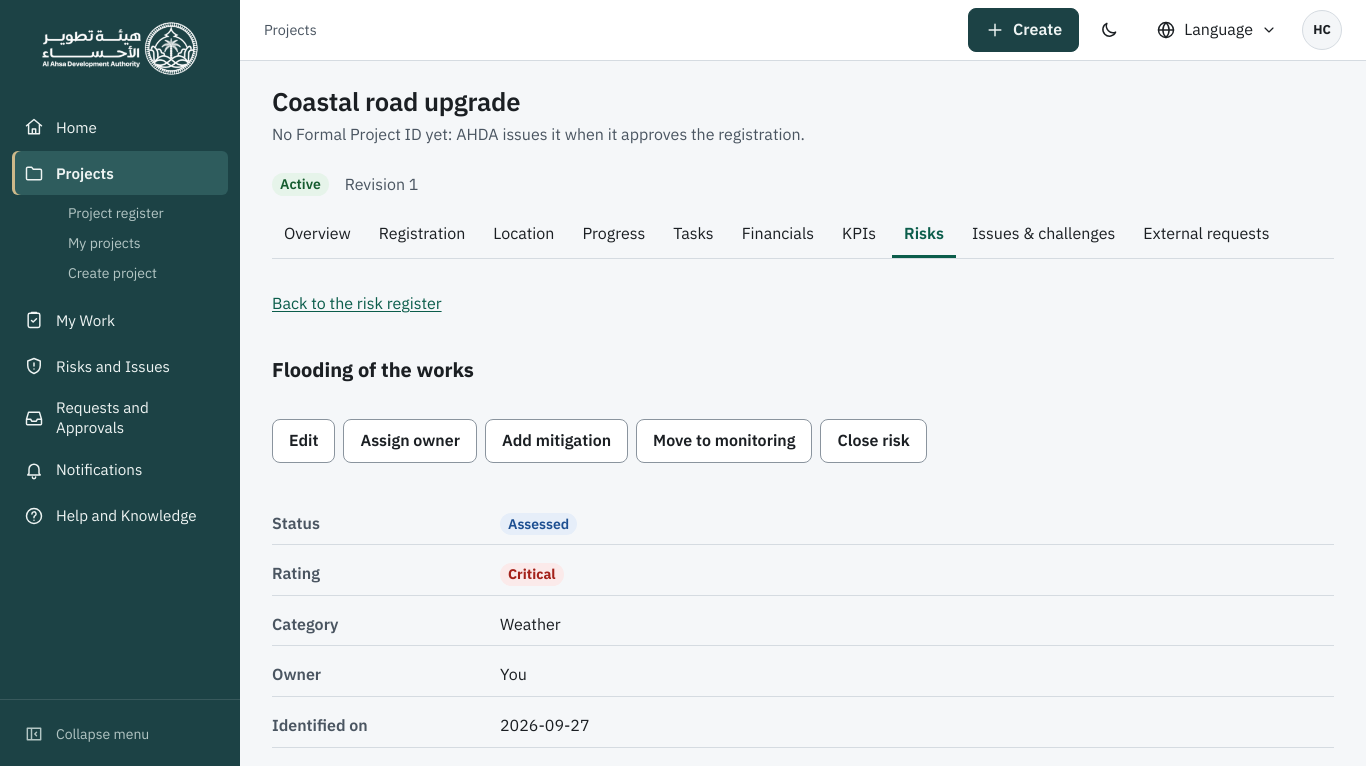
Scenario: MOD-030 to MOD-034 › MOD-031 re-sends the register fields with the ETag
This screenshot has width=1366, height=766.
Step 1. Click the button "Edit" → (304, 441), box x1=272 y1=419 x2=335 y2=463
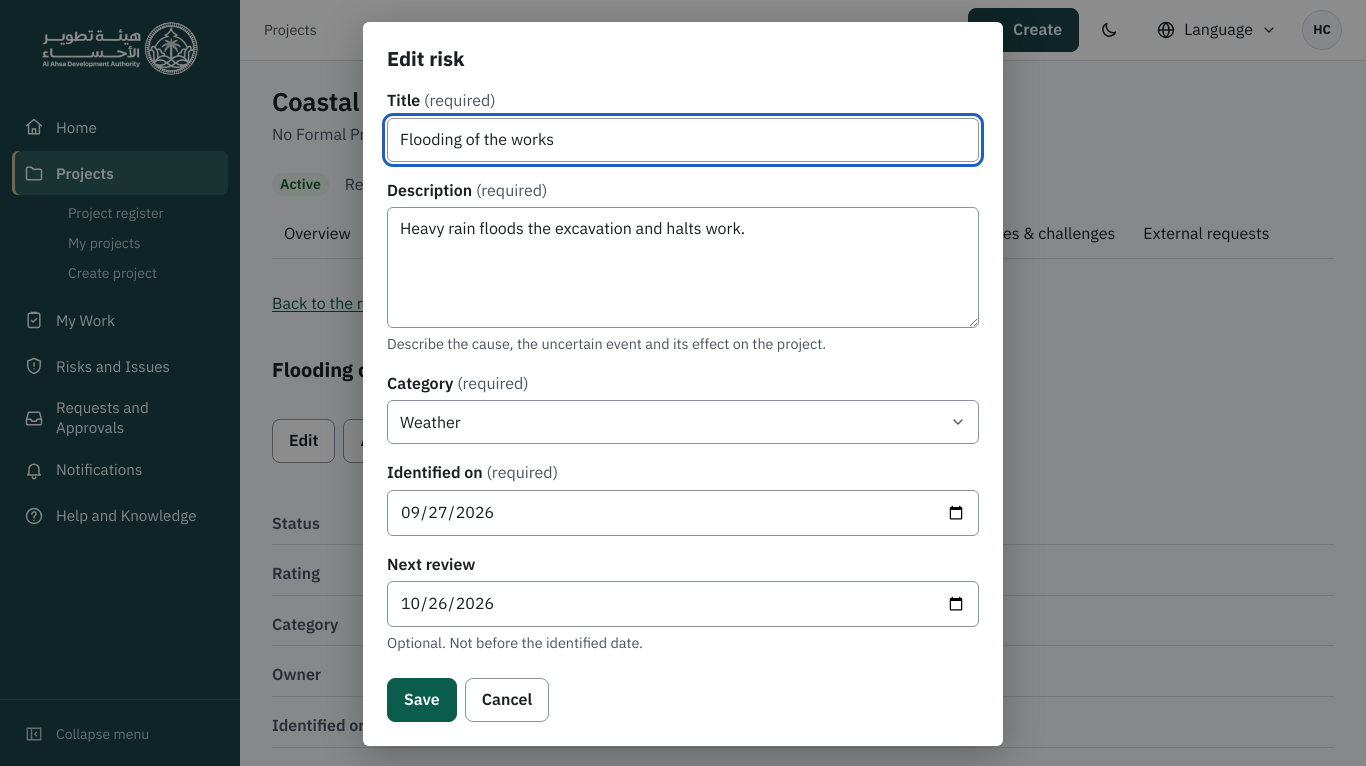
Step 2. Replace the text in the field labelled "Title (required)" with "Flooding of the excavation" → (683, 140), box x1=387 y1=118 x2=979 y2=162
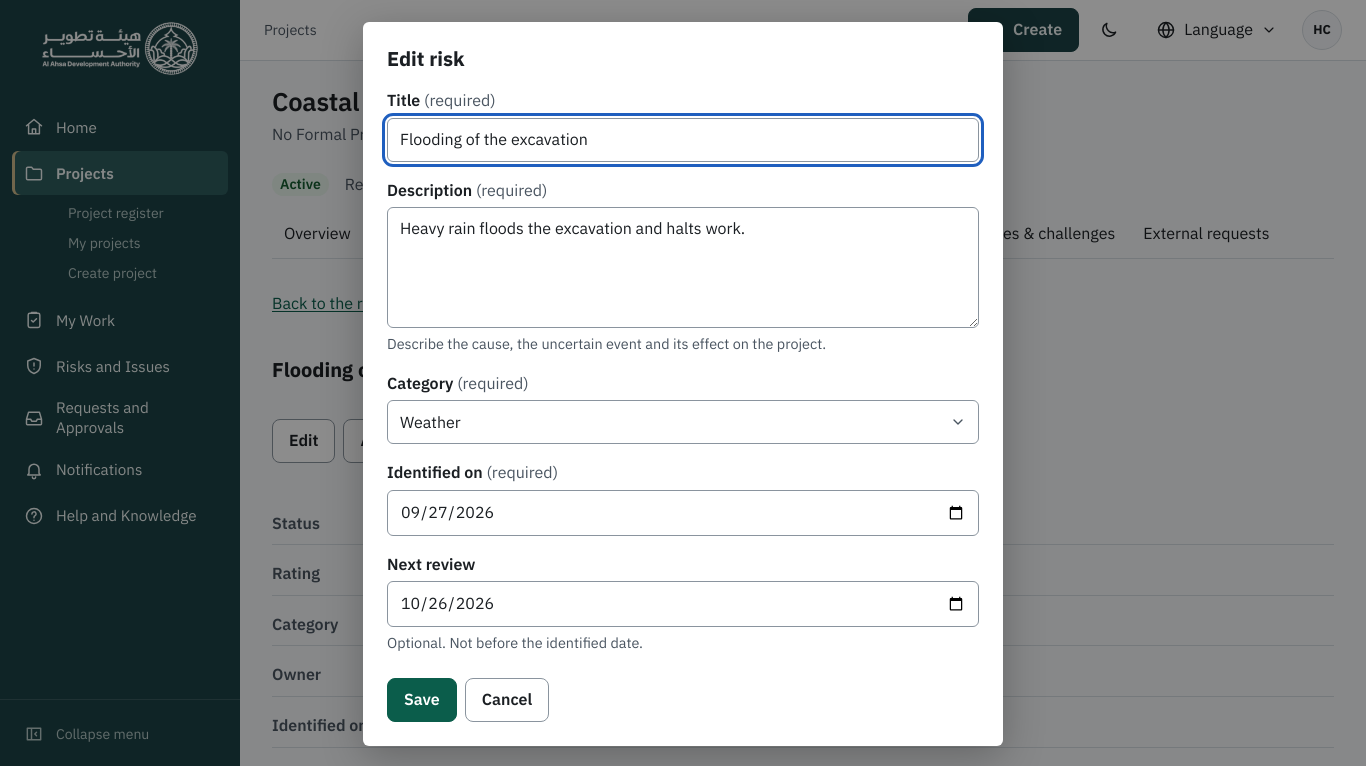
Step 3. Click the button "Save" → (422, 700), box x1=387 y1=678 x2=457 y2=722
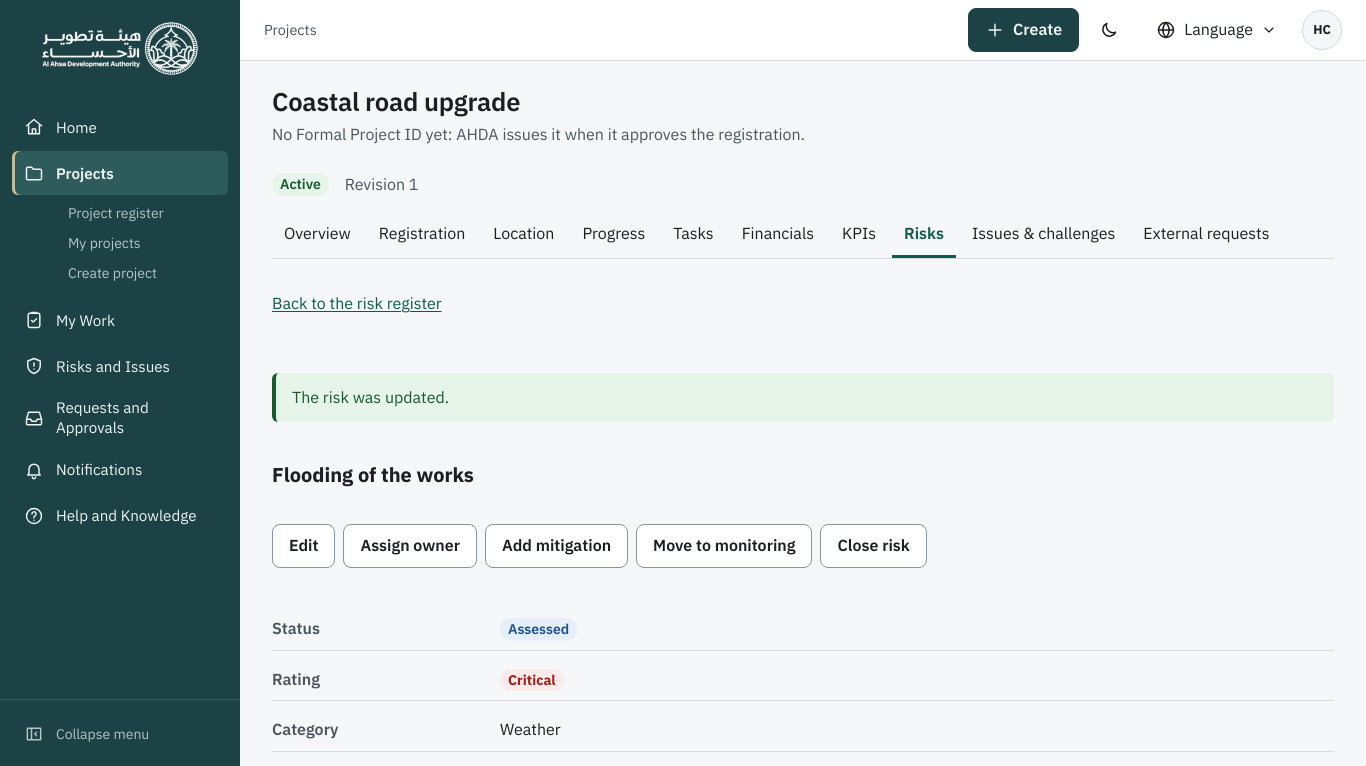
Expected: the text "The risk was updated." is shown, x1=272 y1=373 x2=1334 y2=422
